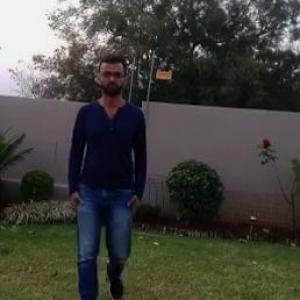follow: (70, 67, 137, 299)
